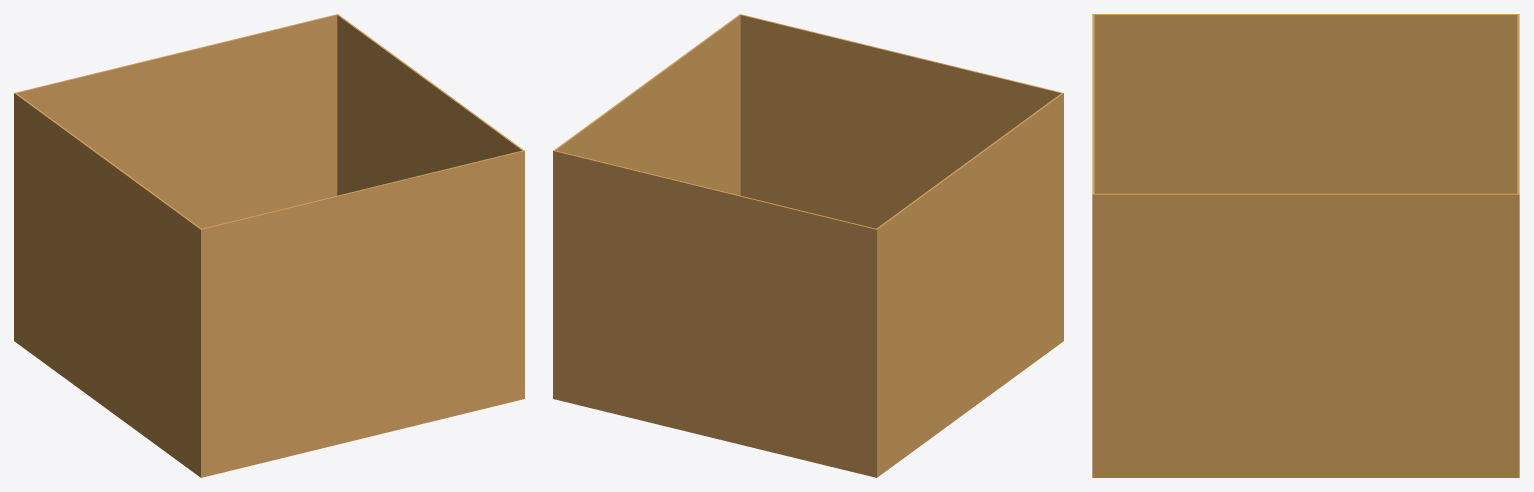
File: cajaCarton.fbx
3 renders of one model, left to right at view 1: azimuth 30°, elevation 25°; view 2: azimuth 150°, elevation 25°; view 3: azimuth 270°, elevation 25°, orthographic. The views are drawn at different scales.
Parts seen in each view (by area): view 1: Cube.001; view 2: Cube.001; view 3: Cube.001.
Boxes of the visible parts, left/top/right/bottom form: Cube.001: left=14, top=14, right=524, bottom=477; Cube.001: left=553, top=14, right=1063, bottom=477; Cube.001: left=1092, top=14, right=1519, bottom=477.
Size of the model in its own units: 144 by 105 by 144.
